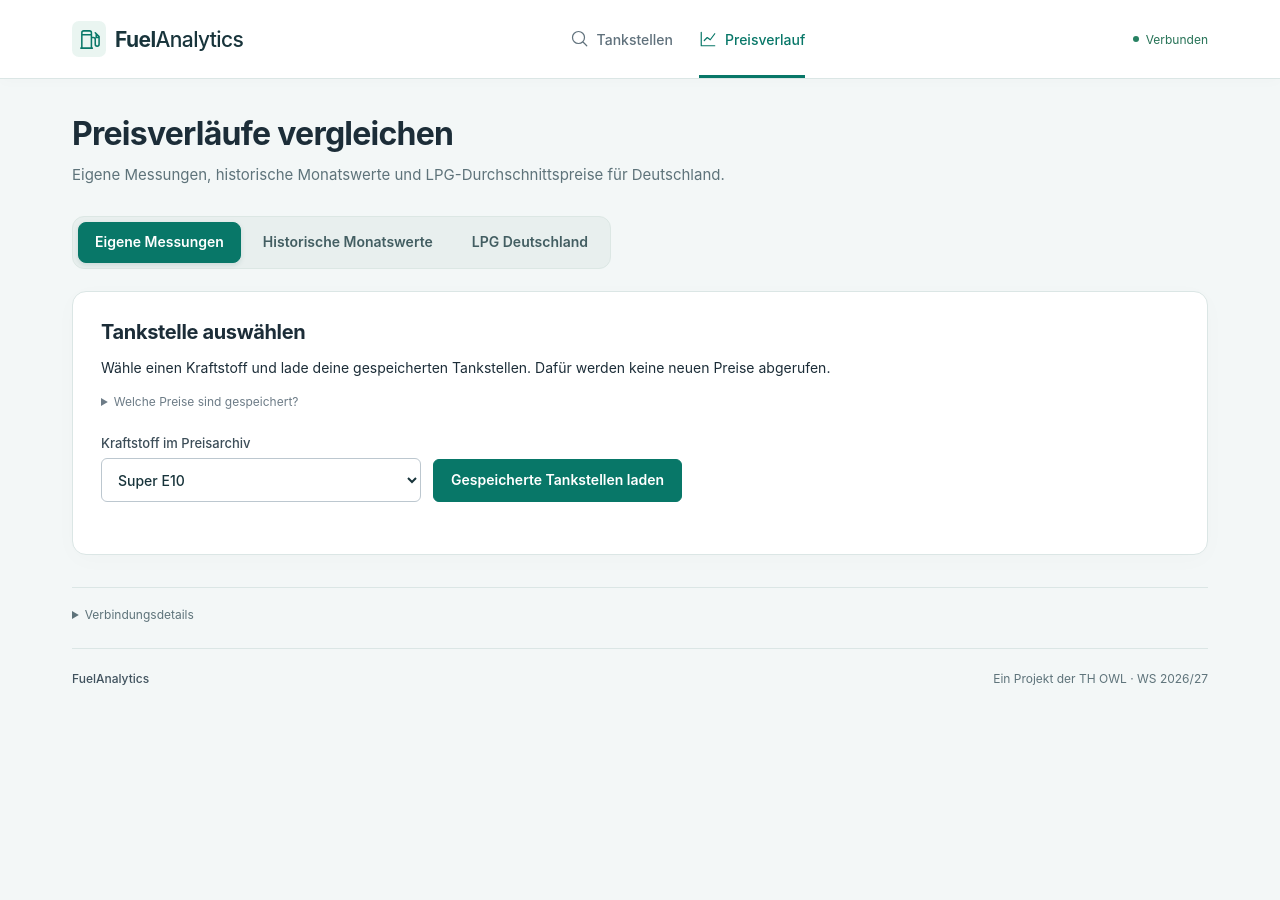
Test: history sources preserve their filters when switching and follow direct hash navigation
Select "Diesel" in the dropdown labelled "Kraftstoff im Preisarchiv": {"x": 261, "y": 480} x1=101 y1=458 x2=421 y2=502
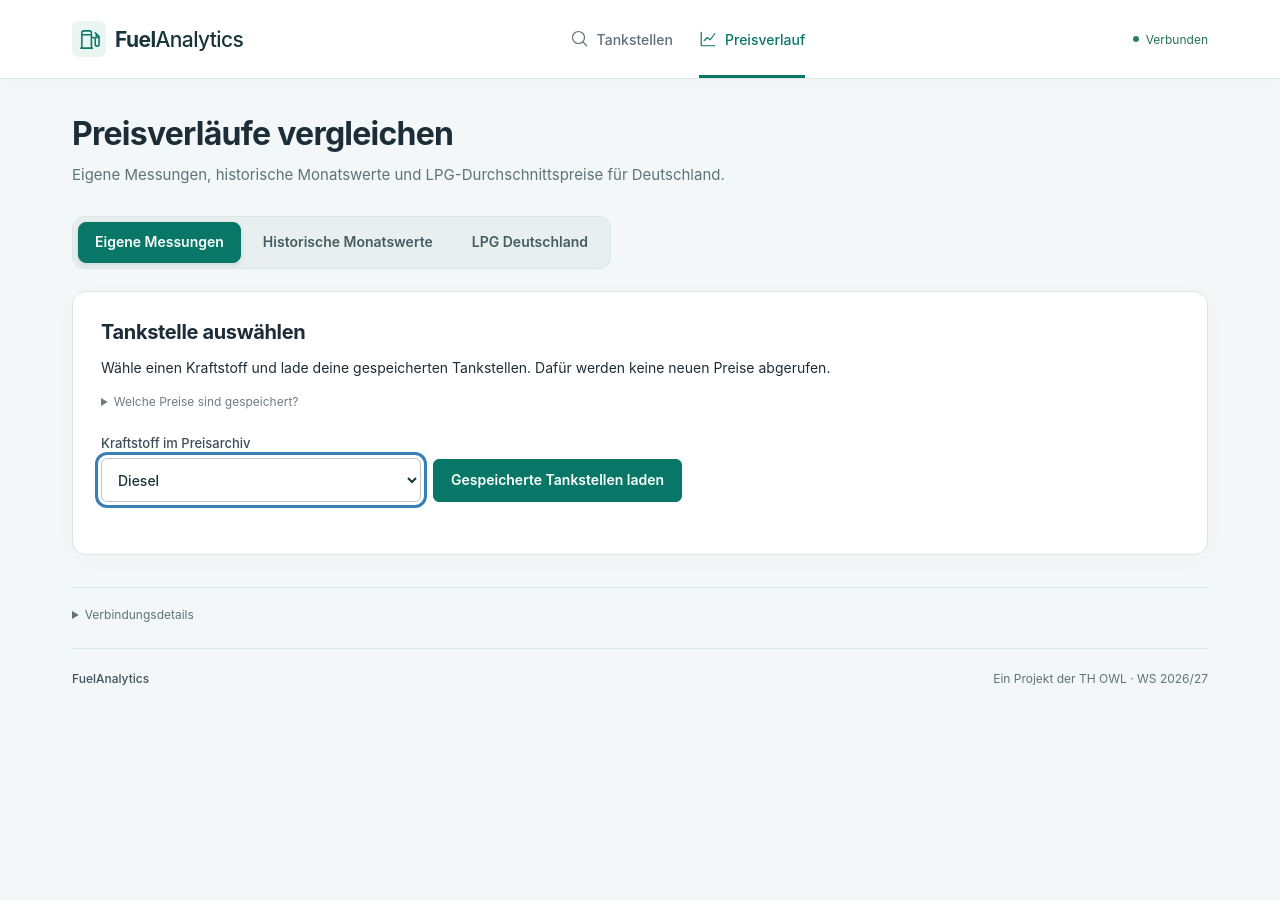
Click the button "LPG Deutschland": {"x": 530, "y": 243} x1=455 y1=222 x2=605 y2=263
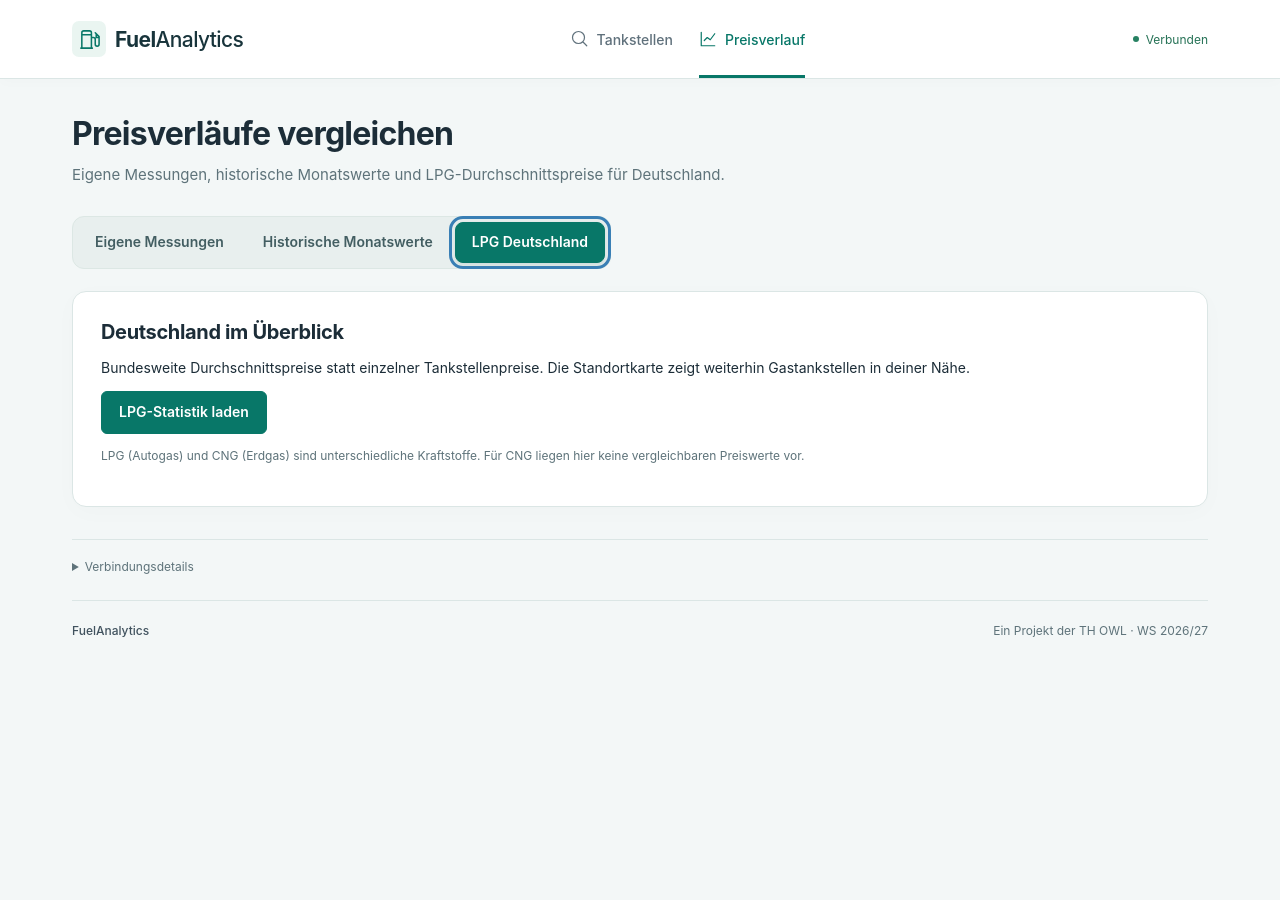
Click the button "Eigene Messungen": {"x": 159, "y": 243} x1=78 y1=222 x2=241 y2=263
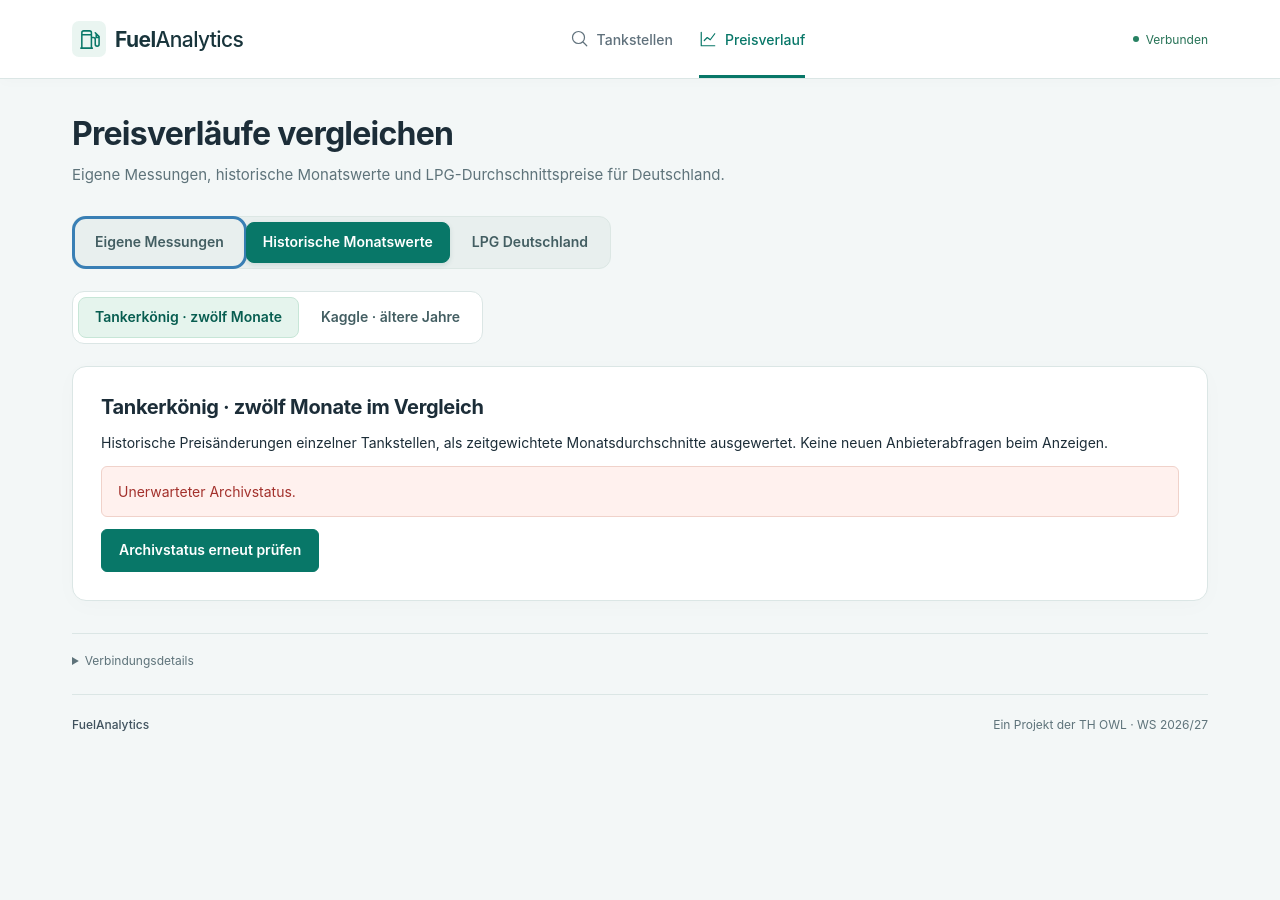
Result: the heading "Tankerkönig · zwölf Monate im Vergleich" is shown at x1=101 y1=395 x2=484 y2=419
Result: the button "LPG-Statistik laden" is gone
